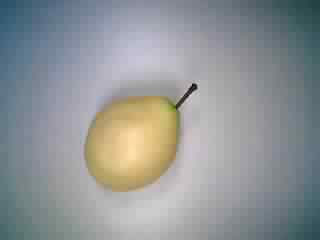pear: (73, 75, 207, 199)
